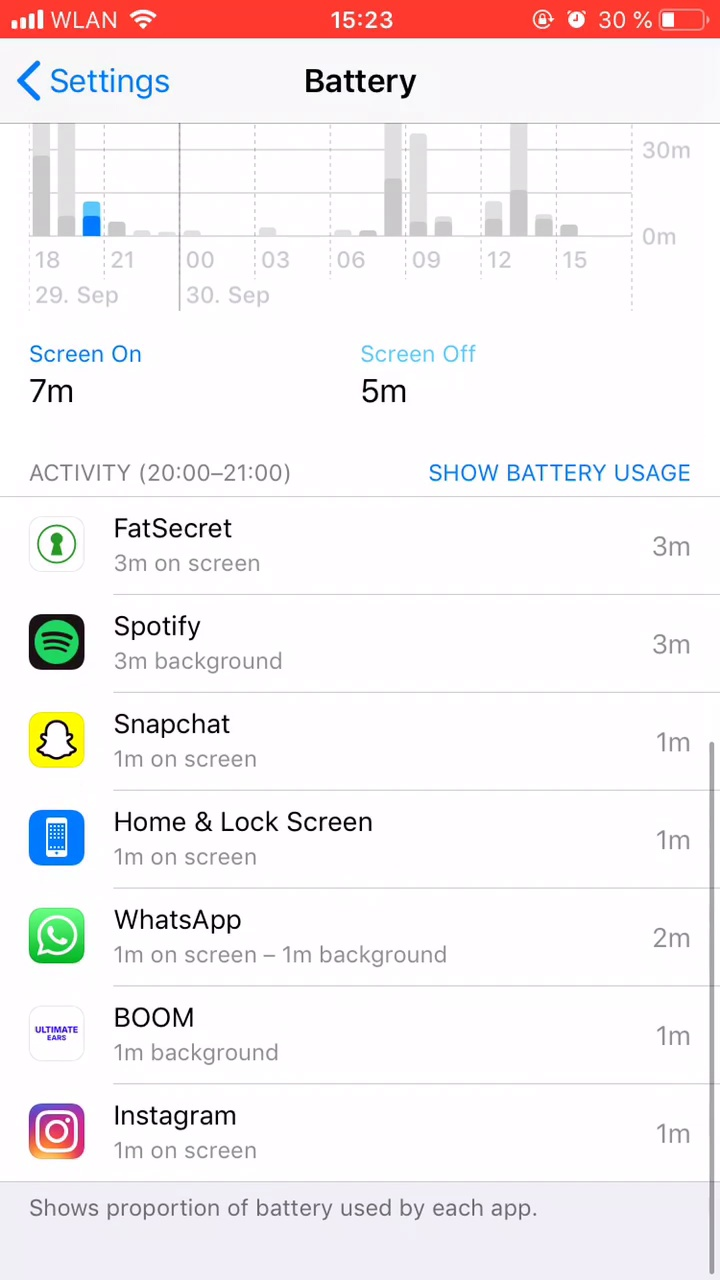activity: (17, 445, 324, 489)
app: (26, 510, 703, 580), (26, 613, 703, 683), (28, 704, 705, 774), (21, 804, 698, 874), (19, 898, 696, 968), (21, 999, 698, 1069), (23, 1097, 700, 1167)
